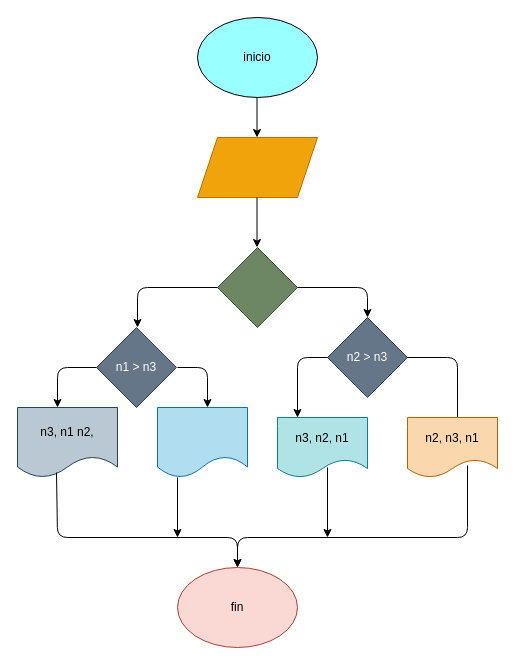
The diagram is 515 pixels wide and 665 high, and some of its shapes have lost their labels. The centre of each missing label's shape, as x and y in pixels:
"n1 > n2" belongs at pixel 257 287.
"n1, n2 n3" belongs at pixel 257 167.
"n1, n2, n3" belongs at pixel 202 442.
